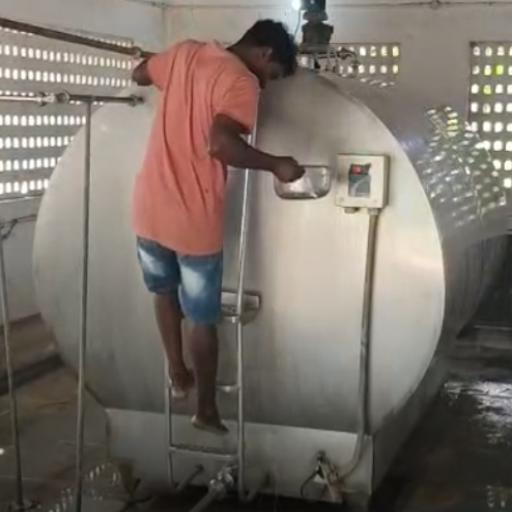silo: (29, 55, 508, 503)
vessel: (273, 164, 331, 200)
